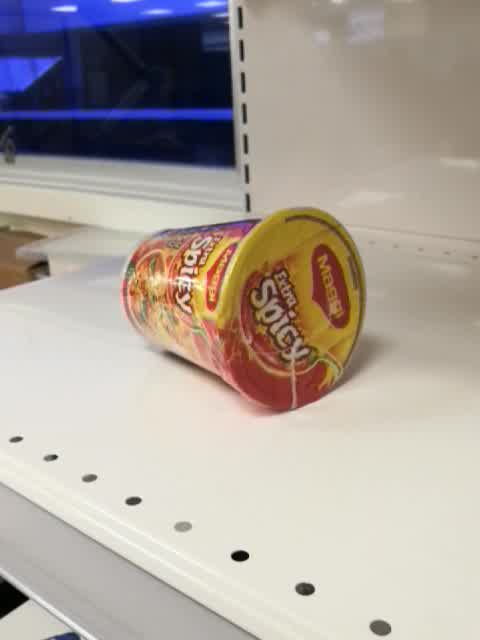maggi: (121, 205, 366, 415)
